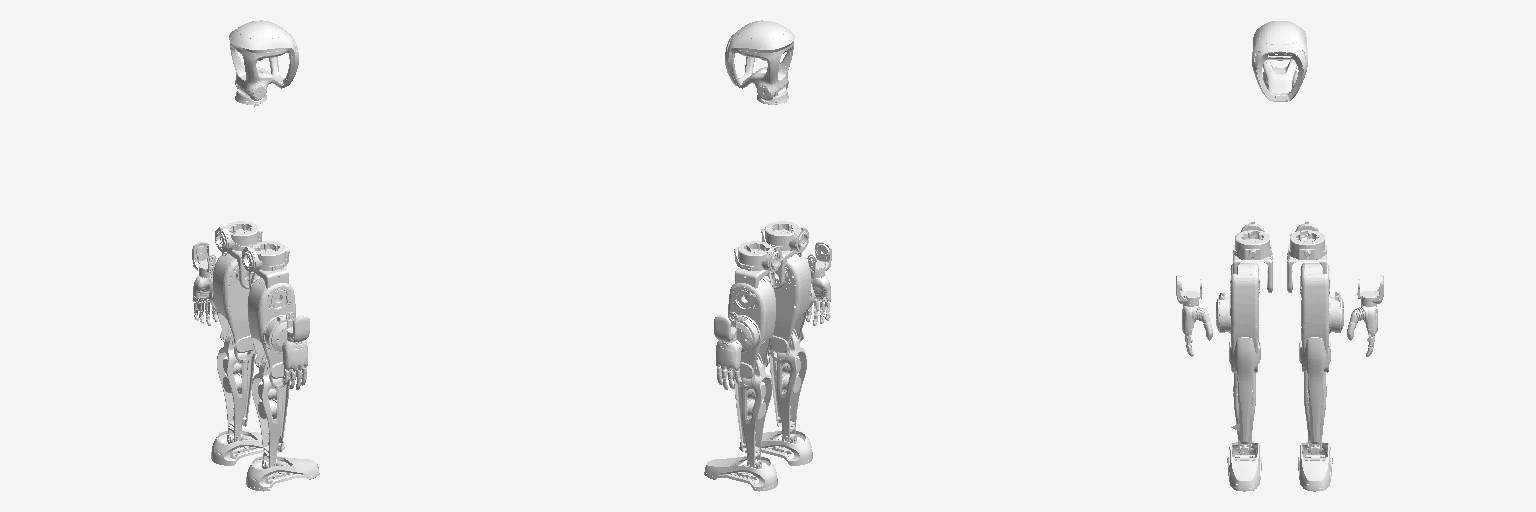
--- Render facts (derived) ---
Views: 3 orthographic renders of the robot side by side, from view 1: azimuth 30°, elevation 25°; view 2: azimuth 150°, elevation 25°; view 3: azimuth 270°, elevation 25°.
Model biped_s43 with 46 links and 45 joints (28 revolute, 17 fixed), rooted at dummy_link, posed every joint at zero.
Links seen in each view (by area): view 1: zhead_2_link, leg_r3_link, leg_l4_link, leg_r4_link, leg_l3_link, leg_r6_link, zarm_r7_link, zarm_l7_link, leg_l6_link, leg_r1_link, leg_l1_link, leg_r2_link; view 2: zhead_2_link, leg_l3_link, leg_r4_link, leg_l4_link, leg_r3_link, leg_l6_link, zarm_l7_link, zarm_r7_link, leg_r6_link, leg_l1_link, leg_r1_link, leg_l2_link; view 3: zhead_2_link, leg_r3_link, leg_l3_link, leg_r4_link, leg_l4_link, leg_l6_link, leg_r6_link, zarm_r7_link, zarm_l7_link, leg_r1_link, leg_l1_link.
Boxes of the visible links, bbox=[...] form: zhead_2_link: bbox=[229, 20, 298, 100]; leg_r3_link: bbox=[247, 277, 295, 387]; leg_l4_link: bbox=[217, 328, 255, 441]; leg_r4_link: bbox=[252, 354, 290, 467]; leg_l3_link: bbox=[209, 253, 254, 362]; leg_r6_link: bbox=[246, 456, 319, 491]; zarm_r7_link: bbox=[282, 312, 309, 389]; zarm_l7_link: bbox=[192, 242, 217, 325]; leg_l6_link: bbox=[211, 431, 284, 465]; leg_r1_link: bbox=[242, 241, 289, 271]; leg_l1_link: bbox=[215, 221, 262, 252]; leg_r2_link: bbox=[249, 268, 288, 307]; zhead_2_link: bbox=[725, 20, 794, 100]; leg_l3_link: bbox=[728, 277, 775, 388]; leg_r4_link: bbox=[768, 328, 806, 441]; leg_l4_link: bbox=[733, 353, 771, 467]; leg_r3_link: bbox=[769, 253, 814, 362]; leg_l6_link: bbox=[704, 456, 777, 491]; zarm_l7_link: bbox=[714, 312, 741, 389]; zarm_r7_link: bbox=[806, 242, 831, 325]; leg_r6_link: bbox=[739, 431, 812, 465]; leg_l1_link: bbox=[734, 241, 781, 271]; leg_r1_link: bbox=[761, 221, 808, 252]; leg_l2_link: bbox=[735, 268, 774, 305]; zhead_2_link: bbox=[1252, 21, 1307, 101]; leg_r3_link: bbox=[1216, 263, 1259, 372]; leg_l3_link: bbox=[1300, 263, 1343, 372]; leg_r4_link: bbox=[1229, 337, 1260, 452]; leg_l4_link: bbox=[1299, 337, 1330, 452]; leg_l6_link: bbox=[1298, 442, 1332, 491]; leg_r6_link: bbox=[1227, 442, 1261, 491]; zarm_r7_link: bbox=[1176, 275, 1212, 356]; zarm_l7_link: bbox=[1347, 275, 1383, 356]; leg_r1_link: bbox=[1233, 221, 1271, 259]; leg_l1_link: bbox=[1288, 221, 1326, 259].
Bounding box of the posed robot: 0.2541 × 0.6638 × 1.57 m (x, y, z).
16 mesh visuals loaded from 31 distinct referenced files (16 binary STL); not drawn: 15 (reference not matched to a file when rendering).

The robot description file, URDF, robot "biped_s43":
<?xml version='1.0' encoding='utf-8'?>
<robot name="biped_s43">
  <mujoco>
    <compiler meshdir="../meshes/" balanceinertia="true" discardvisual="false" />
  </mujoco>
  <link name="dummy_link" />
  <link name="base_link">
    <inertial>
      <origin xyz="-0.00505 0.0014 0.18077" rpy="0 0 0" />
      <mass value="21.7789" />
      <inertia ixx="0.28214" ixy="3e-05" ixz="0.01114" iyy="0.20534" iyz="0.00044" izz="0.13735" />
    </inertial>
    <visual>
      <origin xyz="0 0 0" rpy="0 0 0" />
      <geometry>
        <mesh filename="package://kuavo_assets/models/biped_s43/meshes/base_link.STL" />
      </geometry>
      <material name="">
        <color rgba="1 1 1 1" />
      </material>
    </visual>
  </link>
  <joint name="dummy_to_base_link" type="fixed">
    <origin xyz="0 0 0" rpy="0 0 0" />
    <parent link="dummy_link" />
    <child link="base_link" />
    <dynamics damping="0.2" friction="0.0"/>
  </joint>
  <link name="leg_l1_link">
    <inertial>
      <origin xyz="-0.00624961 -5.6e-06 -0.00874166" rpy="0 0 0" />
      <mass value="1.79206533" />
      <inertia ixx="0.00211603" ixy="7.6e-07" ixz="0.000107" iyy="0.00302948" iyz="4.73e-06" izz="0.00399385" />
    </inertial>
    <visual>
      <origin xyz="0 0 0" rpy="0 0 0" />
      <geometry>
        <mesh filename="package://kuavo_assets/models/biped_s43/meshes/l_leg_roll.STL" />
      </geometry>
      <material name="">
        <color rgba="1 1 1 1" />
      </material>
    </visual>
  </link>
  <joint name="leg_l1_joint" type="revolute">
    <origin xyz="-0.0025 0.087 -0.066" rpy="0 0 0" />
    <parent link="base_link" />
    <child link="leg_l1_link" />
    <axis xyz="1 0 0" />
    <limit lower="-0.314159265358979" upper="0.663225115757845" effort="180.0" velocity="23.55" />
    <dynamics damping="0.2" friction="0.0"/>
  </joint>
  <link name="leg_l2_link">
    <inertial>
      <origin xyz="4.471e-05 0.04985881 -0.11682314" rpy="0 0 0" />
      <mass value="1.67630577" />
      <inertia ixx="0.00548763" ixy="-2.73e-06" ixz="-9.2e-07" iyy="0.0041542" iyz="0.00050833" izz="0.00426092" />
    </inertial>
    <visual>
      <origin xyz="0 0 0" rpy="0 0 0" />
      <geometry>
        <mesh filename="package://kuavo_assets/models/biped_s43/meshes/l_leg_yaw.STL" />
      </geometry>
      <material name="">
        <color rgba="1 1 1 1" />
      </material>
    </visual>
  </link>
  <joint name="leg_l2_joint" type="revolute">
    <origin xyz="0 0 0" rpy="0 0 0" />
    <parent link="leg_l1_link" />
    <child link="leg_l2_link" />
    <axis xyz="0 0 1" />
    <limit lower="-1.0471975511966" upper="0.523598775598299" effort="100.0" velocity="41.3433333333333" />
    <dynamics damping="0.5" friction="0.0"/>
  </joint>
  <link name="leg_l3_link">
    <inertial>
      <origin xyz="-0.00238348 -0.02309435 -0.06304956" rpy="0 0 0" />
      <mass value="2.46847" />
      <inertia ixx="0.02435272" ixy="4.518e-05" ixz="0.00123822" iyy="0.02479772" iyz="0.00261624" izz="0.00478829" />
    </inertial>
    <visual>
      <origin xyz="0 0 0" rpy="0 0 0" />
      <geometry>
        <mesh filename="package://kuavo_assets/models/biped_s43/meshes/l_leg_pitch.STL" />
      </geometry>
      <material name="">
        <color rgba="1 1 1 1" />
      </material>
    </visual>
  </link>
  <joint name="leg_l3_joint" type="revolute">
    <origin xyz="0 0.02545000000000 -0.1287" rpy="0 0 0" />
    <parent link="leg_l2_link" />
    <child link="leg_l3_link" />
    <axis xyz="0 1 0" />
    <limit lower="-1.83259571459405" upper="1.0471975511966" effort="100.0" velocity="41.3433333333333" />
    <dynamics damping="0.2" friction="0.0"/>
  </joint>
  <link name="leg_l4_link">
    <inertial>
      <origin xyz="0.00304104 -4.1e-05 -0.12213928" rpy="0 0 0" />
      <mass value="1.86452506" />
      <inertia ixx="0.01537791" ixy="7.85e-06" ixz="-0.00010781" iyy="0.01559985" iyz="-0.00015323" izz="0.00123021" />
    </inertial>
    <visual>
      <origin xyz="0 0 0" rpy="0 0 0" />
      <geometry>
        <mesh filename="package://kuavo_assets/models/biped_s43/meshes/l_knee.STL" />
      </geometry>
      <material name="">
        <color rgba="1 1 1 1" />
      </material>
    </visual>
  </link>
  <joint name="leg_l4_joint" type="revolute">
    <origin xyz="-0.010390161952608 0 -0.249783995753446" rpy="0 0 0" />
    <parent link="leg_l3_link" />
    <child link="leg_l4_link" />
    <axis xyz="0 1 0" />
    <limit lower="0.0" upper="2.18166156499291" effort="100.0" velocity="41.3433333333333" />
    <dynamics damping="0.2" friction="0.0"/>
  </joint>
  <link name="leg_l5_link">
    <inertial>
      <origin xyz="0.0 0.0 0.0" rpy="0 0 0" />
      <mass value="0.06923929" />
      <inertia ixx="6.66e-04" ixy="0.0" ixz="0.0" iyy="6.66e-04" iyz="0.0" izz="1.172e-04" />
    </inertial>
    <visual>
      <origin xyz="0 0 0" rpy="0 0 0" />
      <geometry>
        <mesh filename="package://kuavo_assets/models/biped_s43/meshes/l_foot_pitch.STL" />
      </geometry>
      <material name="">
        <color rgba="1 1 1 1" />
      </material>
    </visual>
  </link>
  <joint name="leg_l5_joint" type="revolute">
    <origin xyz="0 0 -0.346000000000004" rpy="0 0 0" />
    <parent link="leg_l4_link" />
    <child link="leg_l5_link" />
    <axis xyz="0 1 0" />
    <limit lower="-0.610865238198015" upper="0.523598775598299" effort="36.0" velocity="23.0266666666667" />
    <dynamics damping="0.2" friction="0.0"/>
  </joint>
  <link name="leg_l6_link">
    <inertial>
      <origin xyz="-0.00987056 -7.58e-06 -0.03365514" rpy="0 0 0" />
      <mass value="0.58358325" />
      <inertia ixx="0.0006342" ixy="1.4e-07" ixz="0.00031564" iyy="0.00227317" iyz="-2e-08" izz="0.00239382" />
    </inertial>
    <visual>
      <origin xyz="0 0 0" rpy="0 0 0" />
      <geometry>
        <mesh filename="package://kuavo_assets/models/biped_s43/meshes/l_foot_roll.STL" />
      </geometry>
      <material name="">
        <color rgba="1 1 1 1" />
      </material>
    </visual>
  </link>
  <joint name="leg_l6_joint" type="revolute">
    <origin xyz="0 0 0" rpy="0 0 0" />
    <parent link="leg_l5_link" />
    <child link="leg_l6_link" />
    <axis xyz="1 0 0" />
    <limit lower="-0.349065850398866" upper="0.349065850398866" effort="36.0" velocity="23.0266666666667" />
    <dynamics damping="0.2" friction="0.0"/>
  </joint>
  <link name="ll_foot_toe">
    <collision>
      <origin rpy="0 0 0" xyz="0 0 0" />
      <geometry>
        <sphere radius="0.005" />
      </geometry>
    </collision>
  </link>
  <joint name="ll_foot_toe_joint" type="fixed">
    <origin xyz="0.142507 0.04773 -0.0595" rpy="0 0 0" />
    <parent link="leg_l6_link" />
    <child link="ll_foot_toe" />
    <dynamics damping="0.2" friction="0.0"/>
  </joint>
  <link name="ll_foot_heel">
    <collision>
      <origin rpy="0 0 0" xyz="0 0 0" />
      <geometry>
        <sphere radius="0.005" />
      </geometry>
    </collision>
  </link>
  <joint name="ll_foot_heel_joint" type="fixed">
    <origin xyz="-0.10149 0.04773 -0.0595" rpy="0 0 0" />
    <parent link="leg_l6_link" />
    <child link="ll_foot_heel" />
    <dynamics damping="0.2" friction="0.0"/>
  </joint>
  <link name="lr_foot_toe">
    <collision>
      <origin rpy="0 0 0" xyz="0 0 0" />
      <geometry>
        <sphere radius="0.005" />
      </geometry>
    </collision>
  </link>
  <joint name="lr_foot_toe_joint" type="fixed">
    <origin xyz="0.142507 -0.04773 -0.0595" rpy="0 0 0" />
    <parent link="leg_l6_link" />
    <child link="lr_foot_toe" />
    <dynamics damping="0.2" friction="0.0"/>
  </joint>
  <link name="lr_foot_heel">
    <collision>
      <origin rpy="0 0 0" xyz="0 0 0" />
      <geometry>
        <sphere radius="0.005" />
      </geometry>
    </collision>
  </link>
  <joint name="lr_foot_heel_joint" type="fixed">
    <origin xyz="-0.10149 -0.04773 -0.0595" rpy="0 0 0" />
    <parent link="leg_l6_link" />
    <child link="lr_foot_heel" />
    <dynamics damping="0.2" friction="0.0"/>
  </joint>
  <link name="l_foot_toe">
    <collision>
      <origin rpy="0 0 0" xyz="0 0 0" />
      <geometry>
        <sphere radius="0.005" />
      </geometry>
    </collision>
  </link>
  <joint name="l_foot_toe_joint" type="fixed">
    <origin xyz="0.142507 0.0 -0.0595" rpy="0 0 0" />
    <parent link="leg_l6_link" />
    <child link="l_foot_toe" />
    <dynamics damping="0.2" friction="0.0"/>
  </joint>
  <link name="l_foot_heel">
    <collision>
      <origin rpy="0 0 0" xyz="0 0 0" />
      <geometry>
        <sphere radius="0.005" />
      </geometry>
    </collision>
  </link>
  <joint name="l_foot_heel_joint" type="fixed">
    <origin xyz="-0.10149 0.0 -0.0595" rpy="0 0 0" />
    <parent link="leg_l6_link" />
    <child link="l_foot_heel" />
    <dynamics damping="0.2" friction="0.0"/>
  </joint>
  <link name="leg_r1_link">
    <inertial>
      <origin xyz="-0.00624961 5.65e-06 -0.00874165" rpy="0 0 0" />
      <mass value="1.79206572" />
      <inertia ixx="0.00211603" ixy="-7.6e-07" ixz="0.000107" iyy="0.00302948" iyz="-4.73e-06" izz="0.00399385" />
    </inertial>
    <visual>
      <origin xyz="0 0 0" rpy="0 0 0" />
      <geometry>
        <mesh filename="package://kuavo_assets/models/biped_s43/meshes/r_leg_roll.STL" />
      </geometry>
      <material name="">
        <color rgba="1 1 1 1" />
      </material>
    </visual>
  </link>
  <joint name="leg_r1_joint" type="revolute">
    <origin xyz="-0.0025 -0.087 -0.066" rpy="0 0 0" />
    <parent link="base_link" />
    <child link="leg_r1_link" />
    <axis xyz="1 0 0" />
    <limit lower="-0.663225115757845" upper="0.314159265358979" effort="180.0" velocity="23.55" />
    <dynamics damping="0.2" friction="0.0"/>
  </joint>
  <link name="leg_r2_link">
    <inertial>
      <origin xyz="4.471e-05 -0.04985878 -0.11682313" rpy="0 0 0" />
      <mass value="1.67630636" />
      <inertia ixx="0.00548764" ixy="2.73e-06" ixz="-9.2e-07" iyy="0.00415421" iyz="-0.00050832" izz="0.00426093" />
    </inertial>
    <visual>
      <origin xyz="0 0 0" rpy="0 0 0" />
      <geometry>
        <mesh filename="package://kuavo_assets/models/biped_s43/meshes/r_leg_yaw.STL" />
      </geometry>
      <material name="">
        <color rgba="1 1 1 1" />
      </material>
    </visual>
  </link>
  <joint name="leg_r2_joint" type="revolute">
    <origin xyz="0 0 0" rpy="0 0 0" />
    <parent link="leg_r1_link" />
    <child link="leg_r2_link" />
    <axis xyz="0 0 1" />
    <limit lower="-0.523598775598299" upper="1.0471975511966" effort="100.0" velocity="41.3433333333333" />
    <dynamics damping="0.5" friction="0.0"/>
  </joint>
  <link name="leg_r3_link">
    <inertial>
      <origin xyz="-0.00238153 0.02309009 -0.06305853" rpy="0 0 0" />
      <mass value="2.46916674" />
      <inertia ixx="0.02435155" ixy="-4.518e-05" ixz="0.00123747" iyy="0.02479853" iyz="-0.00261573" izz="0.0047908" />
    </inertial>
    <visual>
      <origin xyz="0 0 0" rpy="0 0 0" />
      <geometry>
        <mesh filename="package://kuavo_assets/models/biped_s43/meshes/r_leg_pitch.STL" />
      </geometry>
      <material name="">
        <color rgba="1 1 1 1" />
      </material>
    </visual>
  </link>
  <joint name="leg_r3_joint" type="revolute">
    <origin xyz="0 -0.02545000000000 -0.1287" rpy="0 0 0" />
    <parent link="leg_r2_link" />
    <child link="leg_r3_link" />
    <axis xyz="0 1 0" />
    <limit lower="-1.83259571459405" upper="1.0471975511966" effort="100.0" velocity="41.3433333333333" />
    <dynamics damping="0.2" friction="0.0"/>
  </joint>
  <link name="leg_r4_link">
    <inertial>
      <origin xyz="0.00304109 4.102e-05 -0.12213983" rpy="0 0 0" />
      <mass value="1.86454133" />
      <inertia ixx="0.01537809" ixy="-7.85e-06" ixz="-0.00010779" iyy="0.01560001" iyz="0.00015322" izz="0.00123022" />
    </inertial>
    <visual>
      <origin xyz="0 0 0" rpy="0 0 0" />
      <geometry>
        <mesh filename="package://kuavo_assets/models/biped_s43/meshes/r_knee.STL" />
      </geometry>
      <material name="">
        <color rgba="1 1 1 1" />
      </material>
    </visual>
  </link>
  <joint name="leg_r4_joint" type="revolute">
    <origin xyz="-0.0103901619526017 0 -0.249783995753447" rpy="0 0 0" />
    <parent link="leg_r3_link" />
    <child link="leg_r4_link" />
    <axis xyz="0 1 0" />
    <limit lower="0.0" upper="2.18166156499291" effort="100.0" velocity="41.3433333333333" />
    <dynamics damping="0.2" friction="0.0"/>
  </joint>
  <link name="leg_r5_link">
    <inertial>
      <origin xyz="0.0 0.0 0.0" rpy="0 0 0" />
      <mass value="0.06923929" />
      <inertia ixx="6.66e-04" ixy="0.0" ixz="0.0" iyy="6.66e-04" iyz="0.0" izz="1.172e-04" />
    </inertial>
    <visual>
      <origin xyz="0 0 0" rpy="0 0 0" />
      <geometry>
        <mesh filename="package://kuavo_assets/models/biped_s43/meshes/r_foot_pitch.STL" />
      </geometry>
      <material name="">
        <color rgba="1 1 1 1" />
      </material>
    </visual>
  </link>
  <joint name="leg_r5_joint" type="revolute">
    <origin xyz="0 0 -0.346000000000011" rpy="0 0 0" />
    <parent link="leg_r4_link" />
    <child link="leg_r5_link" />
    <axis xyz="0 1 0" />
    <limit lower="-0.523598775598299" upper="0.523598775598299" effort="36.0" velocity="23.0266666666667" />
    <dynamics damping="0.2" friction="0.0"/>
  </joint>
  <link name="leg_r6_link">
    <inertial>
      <origin xyz="-0.00987049 7.65e-06 -0.03365512" rpy="0 0 0" />
      <mass value="0.58358273" />
      <inertia ixx="0.0006342" ixy="-1.4e-07" ixz="0.00031564" iyy="0.00227317" iyz="2e-08" izz="0.00239382" />
    </inertial>
    <visual>
      <origin xyz="0 0 0" rpy="0 0 0" />
      <geometry>
        <mesh filename="package://kuavo_assets/models/biped_s43/meshes/r_foot_roll.STL" />
      </geometry>
      <material name="">
        <color rgba="1 1 1 1" />
      </material>
    </visual>
  </link>
  <joint name="leg_r6_joint" type="revolute">
    <origin xyz="0 0 0" rpy="0 0 0" />
    <parent link="leg_r5_link" />
    <child link="leg_r6_link" />
    <axis xyz="1 0 0" />
    <limit lower="-0.349065850398866" upper="0.349065850398866" effort="36.0" velocity="23.0266666666667" />
    <dynamics damping="0.2" friction="0.0"/>
  </joint>
  <link name="rl_foot_toe">
    <collision>
      <origin rpy="0 0 0" xyz="0 0 0" />
      <geometry>
        <sphere radius="0.005" />
      </geometry>
    </collision>
  </link>
  <joint name="rl_foot_toe_joint" type="fixed">
    <origin xyz="0.142507 0.04773 -0.0595" rpy="0 0 0" />
    <parent link="leg_r6_link" />
    <child link="rl_foot_toe" />
    <dynamics damping="0.2" friction="0.0"/>
  </joint>
  <link name="rl_foot_heel">
    <collision>
      <origin rpy="0 0 0" xyz="0 0 0" />
      <geometry>
        <sphere radius="0.005" />
      </geometry>
    </collision>
  </link>
  <joint name="rl_foot_heel_joint" type="fixed">
    <origin xyz="-0.10149 0.04773 -0.0595" rpy="0 0 0" />
    <parent link="leg_r6_link" />
    <child link="rl_foot_heel" />
    <dynamics damping="0.2" friction="0.0"/>
  </joint>
  <link name="rr_foot_toe">
    <collision>
      <origin rpy="0 0 0" xyz="0 0 0" />
      <geometry>
        <sphere radius="0.005" />
      </geometry>
    </collision>
  </link>
  <joint name="rr_foot_toe_joint" type="fixed">
    <origin xyz="0.142507 -0.04773 -0.0595" rpy="0 0 0" />
    <parent link="leg_r6_link" />
    <child link="rr_foot_toe" />
    <dynamics damping="0.2" friction="0.0"/>
  </joint>
  <link name="rr_foot_heel">
    <collision>
      <origin rpy="0 0 0" xyz="0 0 0" />
      <geometry>
        <sphere radius="0.005" />
      </geometry>
    </collision>
  </link>
  <joint name="rr_foot_heel_joint" type="fixed">
    <origin xyz="-0.10149 -0.04773 -0.0595" rpy="0 0 0" />
    <parent link="leg_r6_link" />
    <child link="rr_foot_heel" />
    <dynamics damping="0.2" friction="0.0"/>
  </joint>
  <link name="r_foot_toe">
    <collision>
      <origin rpy="0 0 0" xyz="0 0 0" />
      <geometry>
        <sphere radius="0.005" />
      </geometry>
    </collision>
  </link>
  <joint name="r_foot_toe_joint" type="fixed">
    <origin xyz="0.142507 0.0 -0.0595" rpy="0 0 0" />
    <parent link="leg_r6_link" />
    <child link="r_foot_toe" />
    <dynamics damping="0.2" friction="0.0"/>
  </joint>
  <link name="r_foot_heel">
    <collision>
      <origin rpy="0 0 0" xyz="0 0 0" />
      <geometry>
        <sphere radius="0.005" />
      </geometry>
    </collision>
  </link>
  <joint name="r_foot_heel_joint" type="fixed">
    <origin xyz="-0.10149 0.0 -0.0595" rpy="0 0 0" />
    <parent link="leg_r6_link" />
    <child link="r_foot_heel" />
    <dynamics damping="0.2" friction="0.0"/>
  </joint>
  <link name="zarm_l1_link">
    <inertial>
      <origin xyz="-0.00083 -0.02218 0.00035" rpy="0 0 0" />
      <mass value="0.962" />
      <inertia ixx="0.00225" ixy="-3e-05" ixz="0.0" iyy="0.00099" iyz="-2e-05" izz="0.00227" />
    </inertial>
    <visual>
      <origin xyz="0 0 0" rpy="0 0 0" />
      <geometry>
        <mesh filename="package://kuavo_assets/models/biped_s43/meshes/l_arm_pitch.STL" />
      </geometry>
      <material name="">
        <color rgba="1 1 1 1" />
      </material>
    </visual>
  </link>
  <joint name="zarm_l1_joint" type="revolute">
    <origin xyz="-0.0175 0.28469999999999995 0.3245" rpy="0 0 0" />
    <parent link="base_link" />
    <child link="zarm_l1_link" />
    <axis xyz="0 1 0" />
    <limit lower="-3.14159265358979" upper="1.5707963267949" effort="100.0" velocity="41.3433333333333" />
    <dynamics damping="0.2" friction="0.0"/>
  </joint>
  <link name="zarm_l2_link">
    <inertial>
      <origin xyz="-0.00791 0.0 -0.04655" rpy="0 0 0" />
      <mass value="0.57" />
      <inertia ixx="0.00163" ixy="0.0" ixz="5e-05" iyy="0.00211" iyz="0.0" izz="0.00122" />
    </inertial>
    <visual>
      <origin xyz="0 0 0" rpy="0 0 0" />
      <geometry>
        <mesh filename="package://kuavo_assets/models/biped_s43/meshes/l_arm_roll.STL" />
      </geometry>
      <material name="">
        <color rgba="1 1 1 1" />
      </material>
    </visual>
  </link>
  <joint name="zarm_l2_joint" type="revolute">
    <origin xyz="0 0 0" rpy="0 0 0" />
    <parent link="zarm_l1_link" />
    <child link="zarm_l2_link" />
    <axis xyz="1 0 0" />
    <limit lower="-0.349065850398866" upper="2.0943951023932" effort="50.0" velocity="19.154" />
    <dynamics damping="0.2" friction="0.0"/>
  </joint>
  <link name="zarm_l3_link">
    <inertial>
      <origin xyz="0.00628 0.00107 -0.20878" rpy="0 0 0" />
      <mass value="1.65" />
      <inertia ixx="0.00815" ixy="-4e-05" ixz="0.00085" iyy="0.00828" iyz="0.00014" izz="0.00206" />
    </inertial>
    <visual>
      <origin xyz="0 0 0" rpy="0 0 0" />
      <geometry>
        <mesh filename="package://kuavo_assets/models/biped_s43/meshes/l_arm_yaw.STL" />
      </geometry>
      <material name="">
        <color rgba="1 1 1 1" />
      </material>
    </visual>
  </link>
  <joint name="zarm_l3_joint" type="revolute">
    <origin xyz="0 0 0" rpy="0 0 0" />
    <parent link="zarm_l2_link" />
    <child link="zarm_l3_link" />
    <axis xyz="0 0 1" />
    <limit lower="-1.5707963267949" upper="1.5707963267949" effort="39.0" velocity="18.84" />
    <dynamics damping="0.2" friction="0.0"/>
  </joint>
  <link name="zarm_l4_link">
    <inertial>
      <origin xyz="-0.01611 0.00143 -0.04857" rpy="0 0 0" />
      <mass value="0.429" />
      <inertia ixx="0.00135" ixy="0.0" ixz="-0.0001" iyy="0.00114" iyz="0.0" izz="0.00083" />
    </inertial>
    <visual>
      <origin xyz="0 0 0" rpy="0 0 0" />
      <geometry>
        <mesh filename="package://kuavo_assets/models/biped_s43/meshes/l_forearm.STL" />
      </geometry>
      <material name="">
        <color rgba="1 1 1 1" />
      </material>
    </visual>
  </link>
  <joint name="zarm_l4_joint" type="revolute">
    <origin xyz="0.0200000000000006 0 -0.283699999999996" rpy="0 0 0" />
    <parent link="zarm_l3_link" />
    <child link="zarm_l4_link" />
    <axis xyz="0 1 0" />
    <limit lower="-2.61799387799149" upper="0.0" effort="50.0" velocity="18.84" />
    <dynamics damping="0.2" friction="0.0"/>
  </joint>
  <link name="zarm_l5_link">
    <inertial>
      <origin xyz="-0.00207 0.00018 -0.05079" rpy="0 0 0" />
      <mass value="0.61" />
      <inertia ixx="0.00107" ixy="0.0" ixz="-4e-05" iyy="0.00146" iyz="0.0" izz="0.00083" />
    </inertial>
    <visual>
      <origin xyz="0 0 0" rpy="0 0 0" />
      <geometry>
        <mesh filename="package://kuavo_assets/models/biped_s43/meshes/l_hand_yaw.STL" />
      </geometry>
      <material name="">
        <color rgba="1 1 1 1" />
      </material>
    </visual>
  </link>
  <joint name="zarm_l5_joint" type="revolute">
    <origin xyz="-0.0200000000000025 0 -0.127037274261591" rpy="0 0 0" />
    <parent link="zarm_l4_link" />
    <child link="zarm_l5_link" />
    <axis xyz="0 0 1" />
    <limit lower="-1.5707963267949" upper="1.5707963267949" effort="12.0" velocity="21.666" />
    <dynamics damping="0.2" friction="0.0"/>
  </joint>
  <link name="zarm_l6_link">
    <inertial>
      <origin xyz="-0.00111 0.00335 -0.01335" rpy="0 0 0" />
      <mass value="0.331" />
      <inertia ixx="0.00022" ixy="0.0" ixz="0.0" iyy="0.00027" iyz="0.0" izz="0.00028" />
    </inertial>
    <visual>
      <origin xyz="0 0 0" rpy="0 0 0" />
      <geometry>
        <mesh filename="package://kuavo_assets/models/biped_s43/meshes/l_hand_roll.STL" />
      </geometry>
      <material name="">
        <color rgba="1 1 1 1" />
      </material>
    </visual>
  </link>
  <joint name="zarm_l6_joint" type="revolute">
    <origin xyz="0.000199999999999079 0 -0.106462725738415" rpy="0 0 0" />
    <parent link="zarm_l5_link" />
    <child link="zarm_l6_link" />
    <axis xyz="1 0 0" />
    <limit lower="-1.30899693899575" upper="0.698131700797732" effort="12.0" velocity="21.666" />
    <dynamics damping="0.2" friction="0.0"/>
  </joint>
  <link name="zarm_l7_link">
    <inertial>
      <origin xyz="0.00186 0.01014 -0.09044" rpy="0 0 0" />
      <mass value="0.64" />
      <inertia ixx="0.00071" ixy="1e-05" ixz="2e-05" iyy="0.0007" iyz="-4e-05" izz="0.00012" />
    </inertial>
    <visual>
      <origin xyz="0 0 0" rpy="0 0 0" />
      <geometry>
        <mesh filename="package://kuavo_assets/models/biped_s43/meshes/l_hand_pitch.STL" />
      </geometry>
      <material name="">
        <color rgba="1 1 1 1" />
      </material>
    </visual>
  </link>
  <joint name="zarm_l7_joint" type="revolute">
    <origin xyz="0 0 -0.0210004653879916" rpy="0 0 0" />
    <parent link="zarm_l6_link" />
    <child link="zarm_l7_link" />
    <axis xyz="0 1 0" />
    <limit lower="-0.698131700797732" upper="0.698131700797732" effort="12.0" velocity="21.666" />
    <dynamics damping="0.2" friction="0.0"/>
  </joint>
  <link name="zarm_l7_end_effector">
    <collision>
      <origin rpy="0 0 0" xyz="0 0 0" />
      <geometry>
        <sphere radius="0.005" />
      </geometry>
    </collision>
  </link>
  <joint name="zarm_l7_end_effector_joint" type="fixed">
    <origin xyz="0 -0.03 -0.17" rpy="0 0 0" />
    <parent link="zarm_l7_link" />
    <child link="zarm_l7_end_effector" />
    <dynamics damping="0.2" friction="0.0"/>
  </joint>
  <link name="zarm_r1_link">
    <inertial>
      <origin xyz="-0.00083 0.02218 0.00035" rpy="0 0 0" />
      <mass value="0.962" />
      <inertia ixx="0.00225" ixy="3e-05" ixz="0.0" iyy="0.00099" iyz="2e-05" izz="0.00227" />
    </inertial>
    <visual>
      <origin xyz="0 0 0" rpy="0 0 0" />
      <geometry>
        <mesh filename="package://kuavo_assets/models/biped_s43/meshes/r_arm_pitch.STL" />
      </geometry>
      <material name="">
        <color rgba="1 1 1 1" />
      </material>
    </visual>
  </link>
  <joint name="zarm_r1_joint" type="revolute">
    <origin xyz="-0.0175 -0.28469999999999995 0.3245" rpy="0 0 0" />
    <parent link="base_link" />
    <child link="zarm_r1_link" />
    <axis xyz="0 1 0" />
    <limit lower="-3.14159265358979" upper="1.5707963267949" effort="100.0" velocity="41.3433333333333" />
    <dynamics damping="0.2" friction="0.0"/>
  </joint>
  <link name="zarm_r2_link">
    <inertial>
      <origin xyz="-0.00791 0.0 -0.04655" rpy="0 0 0" />
      <mass value="0.57" />
      <inertia ixx="0.00163" ixy="0.0" ixz="5e-05" iyy="0.00211" iyz="0.0" izz="0.00122" />
    </inertial>
    <visual>
      <origin xyz="0 0 0" rpy="0 0 0" />
      <geometry>
        <mesh filename="package://kuavo_assets/models/biped_s43/meshes/r_arm_roll.STL" />
      </geometry>
      <material name="">
        <color rgba="1 1 1 1" />
      </material>
    </visual>
  </link>
  <joint name="zarm_r2_joint" type="revolute">
    <origin xyz="0 0 0" rpy="0 0 0" />
    <parent link="zarm_r1_link" />
    <child link="zarm_r2_link" />
    <axis xyz="1 0 0" />
    <limit lower="-2.0943951023932" upper="0.349065850398866" effort="50.0" velocity="19.154" />
    <dynamics damping="0.2" friction="0.0"/>
  </joint>
  <link name="zarm_r3_link">
    <inertial>
      <origin xyz="0.00628 -0.00107 -0.20878" rpy="0 0 0" />
      <mass value="1.65" />
      <inertia ixx="0.00815" ixy="4e-05" ixz="0.00085" iyy="0.00828" iyz="-0.00014" izz="0.00206" />
    </inertial>
    <visual>
      <origin xyz="0 0 0" rpy="0 0 0" />
      <geometry>
        <mesh filename="package://kuavo_assets/models/biped_s43/meshes/r_arm_yaw.STL" />
      </geometry>
      <material name="">
        <color rgba="1 1 1 1" />
      </material>
    </visual>
  </link>
  <joint name="zarm_r3_joint" type="revolute">
    <origin xyz="0 0 0" rpy="0 0 0" />
    <parent link="zarm_r2_link" />
    <child link="zarm_r3_link" />
    <axis xyz="0 0 1" />
    <limit lower="-1.5707963267949" upper="1.5707963267949" effort="39.0" velocity="18.84" />
    <dynamics damping="0.2" friction="0.0"/>
  </joint>
  <link name="zarm_r4_link">
    <inertial>
      <origin xyz="-0.01611 -0.00143 -0.04857" rpy="0 0 0" />
      <mass value="0.429" />
      <inertia ixx="0.00135" ixy="0.0" ixz="-0.0001" iyy="0.00114" iyz="0.0" izz="0.00083" />
    </inertial>
    <visual>
      <origin xyz="0 0 0" rpy="0 0 0" />
      <geometry>
        <mesh filename="package://kuavo_assets/models/biped_s43/meshes/r_forearm.STL" />
      </geometry>
      <material name="">
        <color rgba="1 1 1 1" />
      </material>
    </visual>
  </link>
  <joint name="zarm_r4_joint" type="revolute">
    <origin xyz="0.0200000000000024 0 -0.2837" rpy="0 0 0" />
    <parent link="zarm_r3_link" />
    <child link="zarm_r4_link" />
    <axis xyz="0 1 0" />
    <limit lower="-2.61799387799149" upper="0.0" effort="50.0" velocity="18.84" />
    <dynamics damping="0.2" friction="0.0"/>
  </joint>
  <link name="zarm_r5_link">
    <inertial>
      <origin xyz="-0.00207 -0.00018 -0.05079" rpy="0 0 0" />
      <mass value="0.61" />
      <inertia ixx="0.00107" ixy="0.0" ixz="-4e-05" iyy="0.00146" iyz="0.0" izz="0.00083" />
    </inertial>
    <visual>
      <origin xyz="0 0 0" rpy="0 0 0" />
      <geometry>
        <mesh filename="package://kuavo_assets/models/biped_s43/meshes/r_hand_yaw.STL" />
      </geometry>
      <material name="">
        <color rgba="1 1 1 1" />
      </material>
    </visual>
  </link>
  <joint name="zarm_r5_joint" type="revolute">
    <origin xyz="-0.0200000000000001 0 -0.127037274261587" rpy="0 0 0" />
    <parent link="zarm_r4_link" />
    <child link="zarm_r5_link" />
    <axis xyz="0 0 1" />
    <limit lower="-1.5707963267949" upper="1.5707963267949" effort="12.0" velocity="21.666" />
    <dynamics damping="0.2" friction="0.0"/>
  </joint>
  <link name="zarm_r6_link">
    <inertial>
      <origin xyz="-0.00111 -0.00335 -0.01335" rpy="0 0 0" />
      <mass value="0.331" />
      <inertia ixx="0.00022" ixy="0.0" ixz="0.0" iyy="0.00027" iyz="0.0" izz="0.00028" />
    </inertial>
    <visual>
      <origin xyz="0 0 0" rpy="0 0 0" />
      <geometry>
        <mesh filename="package://kuavo_assets/models/biped_s43/meshes/r_hand_roll.STL" />
      </geometry>
      <material name="">
        <color rgba="1 1 1 1" />
      </material>
    </visual>
  </link>
  <joint name="zarm_r6_joint" type="revolute">
    <origin xyz="0 0 -0.106462725738415" rpy="0 0 0" />
    <parent link="zarm_r5_link" />
    <child link="zarm_r6_link" />
    <axis xyz="1 0 0" />
    <limit lower="-0.698131700797732" upper="1.30899693899575" effort="12.0" velocity="21.666" />
    <dynamics damping="0.2" friction="0.0"/>
  </joint>
  <link name="zarm_r7_link">
    <inertial>
      <origin xyz="0.00186 -0.01014 -0.09044" rpy="0 0 0" />
      <mass value="0.64" />
      <inertia ixx="0.00069" ixy="-1e-05" ixz="2e-05" iyy="0.00068" iyz="5e-05" izz="0.00012" />
    </inertial>
    <visual>
      <origin xyz="0 0 0" rpy="0 0 0" />
      <geometry>
        <mesh filename="package://kuavo_assets/models/biped_s43/meshes/r_hand_pitch.STL" />
      </geometry>
      <material name="">
        <color rgba="1 1 1 1" />
      </material>
    </visual>
  </link>
  <joint name="zarm_r7_joint" type="revolute">
    <origin xyz="0 0 -0.0209999999999999" rpy="0 0 0" />
    <parent link="zarm_r6_link" />
    <child link="zarm_r7_link" />
    <axis xyz="0 1 0" />
    <limit lower="-0.698131700797732" upper="0.698131700797732" effort="12.0" velocity="21.666" />
    <dynamics damping="0.2" friction="0.0"/>
  </joint>
  <link name="zarm_r7_end_effector">
    <collision>
      <origin rpy="0 0 0" xyz="0 0 0" />
      <geometry>
        <sphere radius="0.005" />
      </geometry>
    </collision>
  </link>
  <joint name="zarm_r7_end_effector_joint" type="fixed">
    <origin xyz="0 0.03 -0.17" rpy="0 0 0" />
    <parent link="zarm_r7_link" />
    <child link="zarm_r7_end_effector" />
    <dynamics damping="0.2" friction="0.0"/>
  </joint>
  <link name="zhead_1_link">
    <inertial>
      <origin xyz="0.0 0.01245 -0.02982" rpy="0 0 0" />
      <mass value="0.082" />
      <inertia ixx="7e-05" ixy="0.0" ixz="0.0" iyy="6e-05" iyz="-2e-05" izz="8e-05" />
    </inertial>
    <visual>
      <origin xyz="0 0 0" rpy="0 0 0" />
      <geometry>
        <mesh filename="package://kuavo_assets/models/biped_s43/meshes/head_yaw.STL" />
      </geometry>
      <material name="">
        <color rgba="1 1 1 1" />
      </material>
    </visual>
  </link>
  <joint name="zhead_1_joint" type="revolute">
    <origin xyz="-0.0175 0.0 0.5014" rpy="0 0 0" />
    <parent link="base_link" />
    <child link="zhead_1_link" />
    <axis xyz="0 0 1" />
    <limit lower="-1.5707963267949" upper="1.5707963267949" effort="1.5" velocity="5.23333333333333" />
    <dynamics damping="0.2" friction="0.0"/>
  </joint>
  <link name="zhead_2_link">
    <inertial>
      <origin xyz="0.01106 0.00069 0.0586" rpy="0 0 0" />
      <mass value="1.379" />
      <inertia ixx="0.003" ixy="1e-05" ixz="0.0003" iyy="0.00301" iyz="5e-05" izz="0.00281" />
    </inertial>
    <visual>
      <origin xyz="0 0 0" rpy="0 0 0" />
      <geometry>
        <mesh filename="package://kuavo_assets/models/biped_s43/meshes/head_pitch.STL" />
      </geometry>
      <material name="">
        <color rgba="1 1 1 1" />
      </material>
    </visual>
  </link>
  <joint name="zhead_2_joint" type="revolute">
    <origin xyz="0 0 0" rpy="0 0 0" />
    <parent link="zhead_1_link" />
    <child link="zhead_2_link" />
    <axis xyz="0 1 0" />
    <limit lower="-0.523598775598299" upper="0.523598775598299" effort="6.0" velocity="9.734" />
    <dynamics damping="0.2" friction="0.0"/>
  </joint>
  <link name="camera">
    <inertial>
      <origin xyz="-0.04336 -0.01736 -0.01161" rpy="0 0 0" />
      <mass value="0.047" />
      <inertia ixx="0.00065" ixy="0.0" ixz="0.00015" iyy="0.00091" iyz="0.0" izz="0.00105" />
    </inertial>
    <visual>
      <origin xyz="0 0 0" rpy="0 0 0" />
      <geometry>
        <mesh filename="package://kuavo_assets/models/biped_s43/meshes/camera.STL" />
      </geometry>
      <material name="">
        <color rgba="1 1 1 1" />
      </material>
    </visual>
  </link>
  <joint name="camera" type="fixed">
    <origin xyz="0.0919101155958193 0.0175000000022731 0.0617838754768194" rpy="0 0.610865238198013 0" />
    <parent link="zhead_2_link" />
    <child link="camera" />
    <dynamics damping="0.2" friction="0.0"/>
  </joint>

  <link
    name="camera_base">
    <inertial>
      <origin
        xyz="0.00354055612698423 0.00140393663616134 0.0124511788327371"
        rpy="0 0 0" />
      <mass
        value="0.0170255961584929" />
      <inertia
        ixx="1.09182620877589E-05"
        ixy="1.05354237503678E-07"
        ixz="1.05871360812799E-08"
        iyy="8.57178923448405E-07"
        iyz="1.6401848102306E-08"
        izz="1.02869873531782E-05" />
    </inertial>
    <visual>
      <origin
        xyz="0 0 0"
        rpy="0 0 0" />
      <geometry>
        <mesh
          filename="package://kuavo_assets/models/biped_s43/meshes/camera_base.STL" />
      </geometry>
      <material
        name="">
        <color
          rgba="1 1 1 1" />
      </material>
    </visual>
    <collision>
      <origin
        xyz="0 0 0"
        rpy="0 0 0" />
      <geometry>
        <mesh
          filename="package://kuavo_assets/models/biped_s43/meshes/camera_base.STL" />
      </geometry>
    </collision>
  </link>
  <joint
    name="camera_base"
    type="fixed">
    <origin
      xyz="0.0766792844154498 0 0.0571889355165869"
      rpy="0 0.610865238198013 0" />
    <parent
      link="zhead_2_link" />
    <child
      link="camera_base" />
  </joint>
  
  <!-- 在原有的gazebo插件配置后添加 -->
  <!-- 真值 -->
  <gazebo>
    <plugin filename="libgazebo_ros_p3d.so" name="p3d_base_controller">
      <alwaysOn>true</alwaysOn>
      <updateRate>500.0</updateRate>
      <bodyName>base_link</bodyName>
      <topicName>ground_truth/state</topicName>
      <gaussianNoise>0</gaussianNoise>
      <frameName>world</frameName>
      <xyzOffsets>0 0 0</xyzOffsets>
      <rpyOffsets>0 0 0</rpyOffsets>
    </plugin>
  </gazebo>

  <!-- 左脚 -->
  <gazebo reference="leg_l6_link">
    <mu1>1.5</mu1>
    <mu2>2.5</mu2>
    <self_collide>1</self_collide>
    <kp value="1000000.0"/>
    <kd value="100.0"/>
    <maxVel>3</maxVel>
    <minDepth>0.00</minDepth>
  </gazebo>
  <gazebo reference="l_foot_heel">
    <mu1>1.5</mu1>
    <mu2>2.5</mu2>
    <self_collide>1</self_collide>
    <kp value="1000000.0"/>
    <kd value="100.0"/>
    <maxVel>3</maxVel>
    <minDepth>0.00</minDepth>
  </gazebo>
  <gazebo reference="l_foot_toe">
    <mu1>1.5</mu1>
    <mu2>2.5</mu2>
    <self_collide>1</self_collide>
    <kp value="1000000.0"/>
    <kd value="100.0"/>
    <maxVel>3</maxVel>
    <minDepth>0.00</minDepth>
  </gazebo>
  <gazebo reference="lr_foot_heel">
    <mu1>1.5</mu1>
    <mu2>2.5</mu2>
    <self_collide>1</self_collide>
    <kp value="1000000.0"/>
    <kd value="100.0"/>
    <maxVel>3</maxVel>
    <minDepth>0.00</minDepth>
  </gazebo>
  <gazebo reference="lr_foot_toe">
    <mu1>1.5</mu1>
    <mu2>2.5</mu2>
    <self_collide>1</self_collide>
    <kp value="1000000.0"/>
    <kd value="100.0"/>
    <maxVel>3</maxVel>
    <minDepth>0.00</minDepth>
  </gazebo>
  <gazebo reference="ll_foot_heel">
    <mu1>1.5</mu1>
    <mu2>2.5</mu2>
    <self_collide>1</self_collide>
    <kp value="1000000.0"/>
    <kd value="100.0"/>
    <maxVel>3</maxVel>
    <minDepth>0.00</minDepth>
  </gazebo>
  <gazebo reference="ll_foot_toe">
    <mu1>1.5</mu1>
    <mu2>2.5</mu2>
    <self_collide>1</self_collide>
    <kp value="1000000.0"/>
    <kd value="100.0"/>
    <maxVel>3</maxVel>
    <minDepth>0.00</minDepth>
  </gazebo>

  <!-- 右脚 -->
  <gazebo reference="leg_r6_link">
    <mu1>1.5</mu1>
    <mu2>2.5</mu2>
    <self_collide>1</self_collide>
    <kp value="1000000.0"/>
    <kd value="100.0"/>
    <maxVel>3</maxVel>
    <minDepth>0.00</minDepth>
  </gazebo>
  <gazebo reference="r_foot_heel">
    <mu1>1.5</mu1>
    <mu2>2.5</mu2>
    <self_collide>1</self_collide>
    <kp value="1000000.0"/>
    <kd value="100.0"/>
    <maxVel>3</maxVel>
    <minDepth>0.00</minDepth>
  </gazebo>
  <gazebo reference="r_foot_toe">
    <mu1>1.5</mu1>
    <mu2>2.5</mu2>
    <self_collide>1</self_collide>
    <kp value="1000000.0"/>
    <kd value="100.0"/>
    <maxVel>3</maxVel>
    <minDepth>0.00</minDepth>
  </gazebo>
  <gazebo reference="rl_foot_toe">
    <mu1>1.5</mu1>
    <mu2>2.5</mu2>
    <self_collide>1</self_collide>
    <kp value="1000000.0"/>
    <kd value="100.0"/>
    <maxVel>3</maxVel>
    <minDepth>0.00</minDepth>
  </gazebo>
  <gazebo reference="rl_foot_heel">
    <mu1>1.5</mu1>
    <mu2>2.5</mu2>
    <self_collide>1</self_collide>
    <kp value="1000000.0"/>
    <kd value="100.0"/>
    <maxVel>3</maxVel>
    <minDepth>0.00</minDepth>
  </gazebo>
  <gazebo reference="rr_foot_toe">
    <mu1>1.5</mu1>
    <mu2>2.5</mu2>
    <self_collide>1</self_collide>
    <kp value="1000000.0"/>
    <kd value="100.0"/>
    <maxVel>3</maxVel>
    <minDepth>0.00</minDepth>
  </gazebo>
  <gazebo reference="rr_foot_heel">
    <mu1>1.5</mu1>
    <mu2>2.5</mu2>
    <self_collide>1</self_collide>
    <kp value="1000000.0"/>
    <kd value="100.0"/>
    <maxVel>3</maxVel>
    <minDepth>0.00</minDepth>
  </gazebo>

  <!-- 仿真插件 -->
  <gazebo>
    <plugin name="gazebo_shm_interface" filename="libgazebo_sim_shm_interface.so">
      <!-- IMU配置 gazebo中fixed连接的link都只能获取第一个-->
      <imu>
        <frame_id>dummy_link</frame_id>
      </imu>
      
      <!-- 关节配置 -->
      <joints>
        <!-- 左腿关节 -->
        <joint><name>leg_l1_joint</name></joint>
        <joint><name>leg_l2_joint</name></joint>
        <joint><name>leg_l3_joint</name></joint>
        <joint><name>leg_l4_joint</name></joint>
        <joint><name>leg_l5_joint</name></joint>
        <joint><name>leg_l6_joint</name></joint>
        
        <!-- 右腿关节 -->
        <joint><name>leg_r1_joint</name></joint>
        <joint><name>leg_r2_joint</name></joint>
        <joint><name>leg_r3_joint</name></joint>
        <joint><name>leg_r4_joint</name></joint>
        <joint><name>leg_r5_joint</name></joint>
        <joint><name>leg_r6_joint</name></joint>
        
        <!-- 左臂关节 -->
        <joint><name>zarm_l1_joint</name></joint>
        <joint><name>zarm_l2_joint</name></joint>
        <joint><name>zarm_l3_joint</name></joint>
        <joint><name>zarm_l4_joint</name></joint>
        <joint><name>zarm_l5_joint</name></joint>
        <joint><name>zarm_l6_joint</name></joint>
        <joint><name>zarm_l7_joint</name></joint>
        
        <!-- 右臂关节 -->
        <joint><name>zarm_r1_joint</name></joint>
        <joint><name>zarm_r2_joint</name></joint>
        <joint><name>zarm_r3_joint</name></joint>
        <joint><name>zarm_r4_joint</name></joint>
        <joint><name>zarm_r5_joint</name></joint>
        <joint><name>zarm_r6_joint</name></joint>
        <joint><name>zarm_r7_joint</name></joint>
        
        <!-- 头部关节 -->
        <joint><name>zhead_1_joint</name></joint>
        <joint><name>zhead_2_joint</name></joint>
      </joints>
      
      <!-- 接触传感器配置 -->
      <contacts>
        <contact><link>ll_foot_toe</link></contact>
        <contact><link>ll_foot_heel</link></contact>
        <contact><link>lr_foot_toe</link></contact>
        <contact><link>lr_foot_heel</link></contact>
        <contact><link>rl_foot_toe</link></contact>
        <contact><link>rl_foot_heel</link></contact>
        <contact><link>rr_foot_toe</link></contact>
        <contact><link>rr_foot_heel</link></contact>
      </contacts>
      </plugin>
  </gazebo>

</robot>
